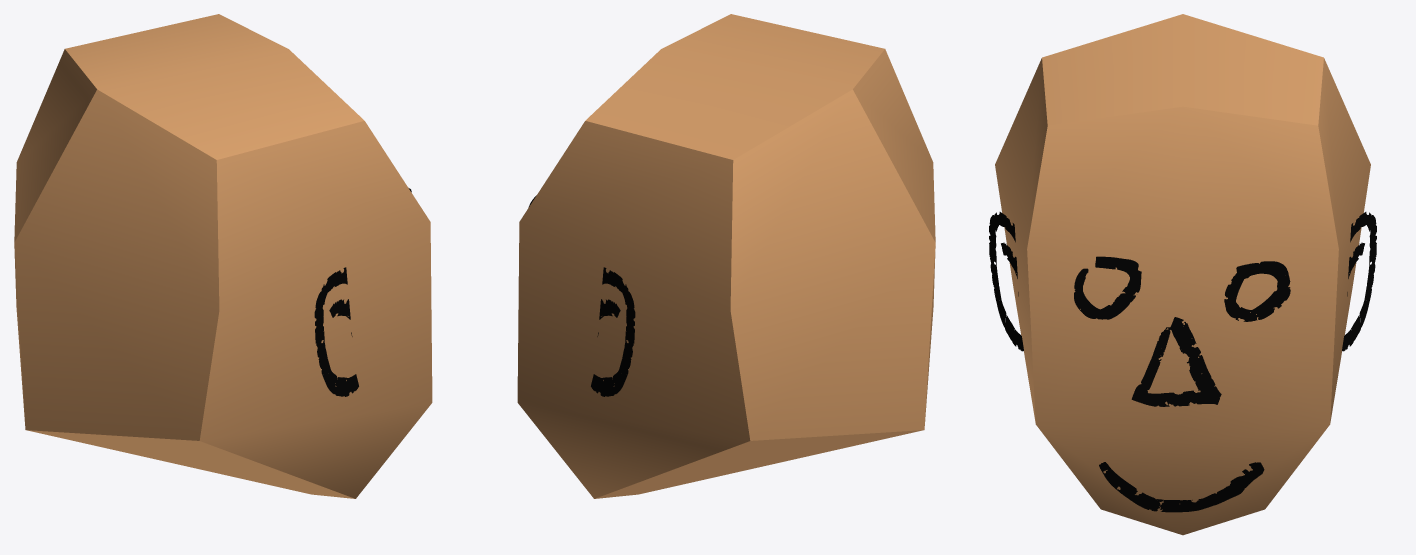
Rendered from HED.fbx.
3 views of the same model, side by side, from view 1: azimuth 30°, elevation 25°; view 2: azimuth 150°, elevation 25°; view 3: azimuth 270°, elevation 25° (orthographic). The views are drawn at different scales.
Parts seen in each view (by area): view 1: pCube1, pPlane3; view 2: pCube1, pPlane3; view 3: pCube1, pPlane2, pPlane4, pPlane3, pPlane1.
Part boxes in pixels (bbox=[...]): pCube1: bbox=[14, 14, 432, 498]; pPlane3: bbox=[314, 267, 358, 396]; pCube1: bbox=[517, 14, 935, 498]; pPlane3: bbox=[591, 267, 635, 396]; pCube1: bbox=[995, 14, 1370, 535]; pPlane2: bbox=[1074, 256, 1290, 321]; pPlane4: bbox=[1131, 317, 1221, 406]; pPlane3: bbox=[989, 212, 1376, 351]; pPlane1: bbox=[1099, 462, 1264, 512].
Bounding box in the file's own units: 1.1 × 1.29 × 1.21.
